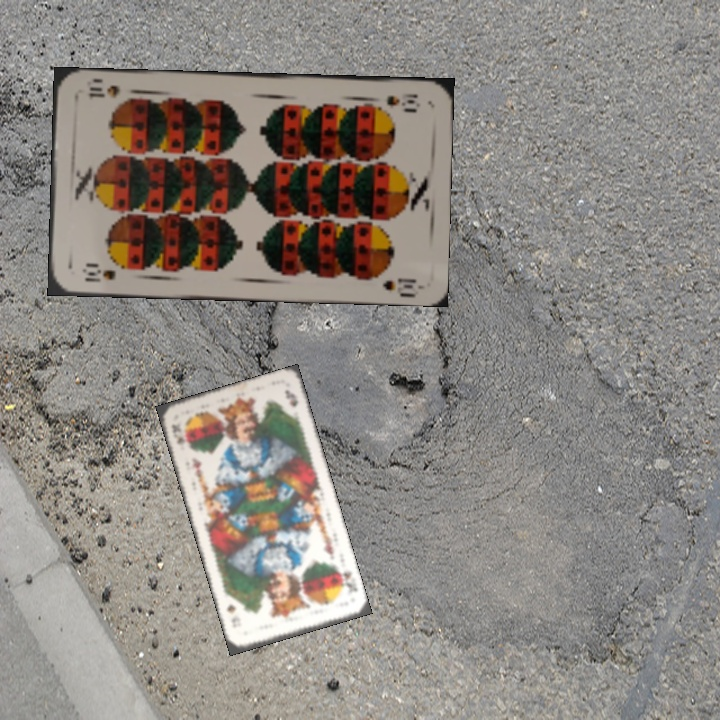S10: (78, 261, 118, 285), (383, 90, 423, 111)
SK: (333, 564, 361, 595), (168, 419, 186, 447)
